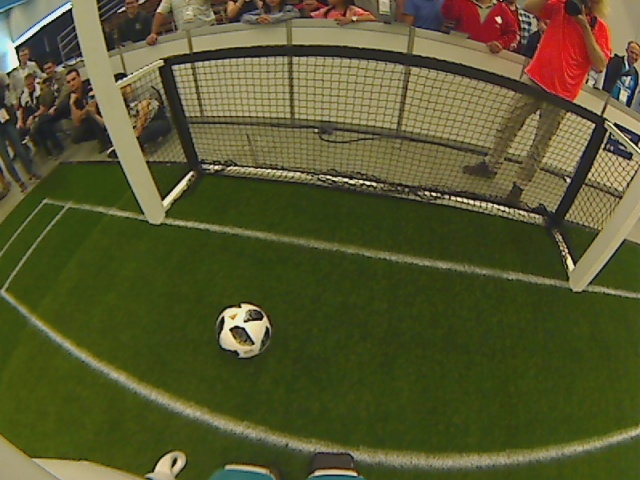ball: (214, 301, 273, 358)
